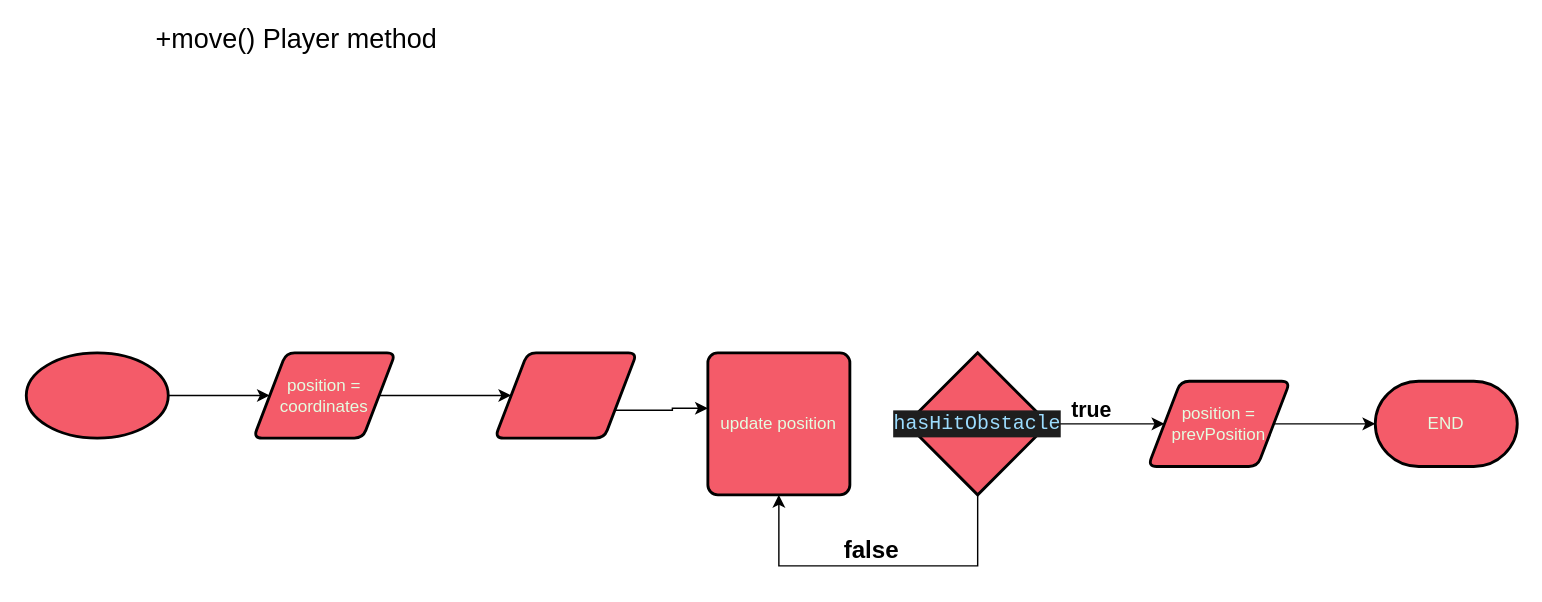
This 1542x602 diagram has some shape labels left out. Each missing label, with the centre of its shape:
prevPosition = position: [565,395]
START: [96,395]
